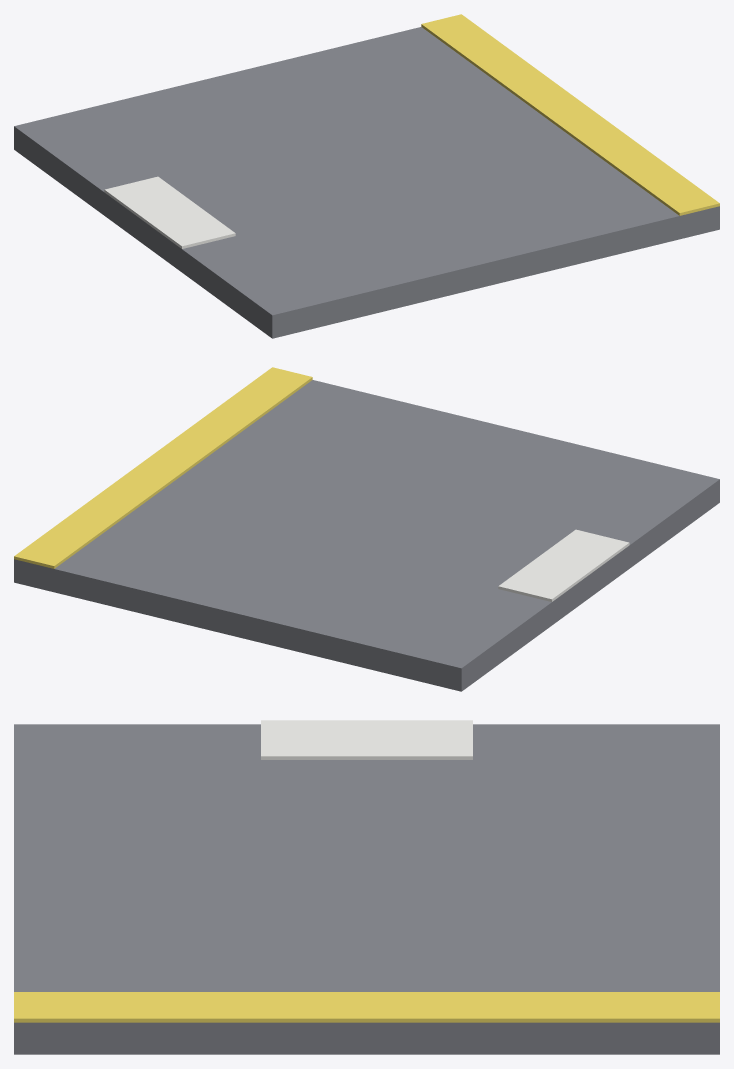
The model's file is road_t.glb.
The picture shows the model from 3 angles, top to bottom: view 1: azimuth 30°, elevation 25°; view 2: azimuth 150°, elevation 25°; view 3: azimuth 270°, elevation 25°; orthographic projection. The views are drawn at different scales.
Parts seen in each view (by area): view 1: road_t; view 2: road_t; view 3: road_t.
Part boxes in pixels (x1,y1,x2,y2): road_t: [14, 14, 719, 338]; road_t: [14, 367, 719, 691]; road_t: [14, 720, 719, 1054].
Bounding box in the file's own units: 1 × 0.056 × 1.
